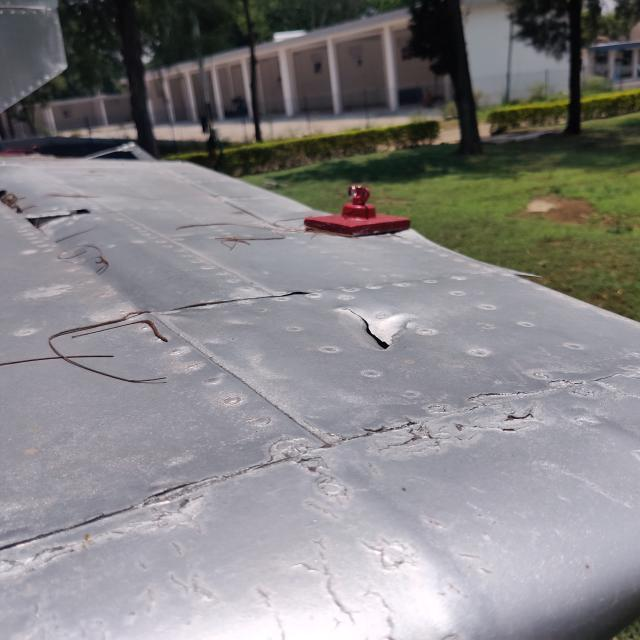crack: (331, 299, 422, 358)
